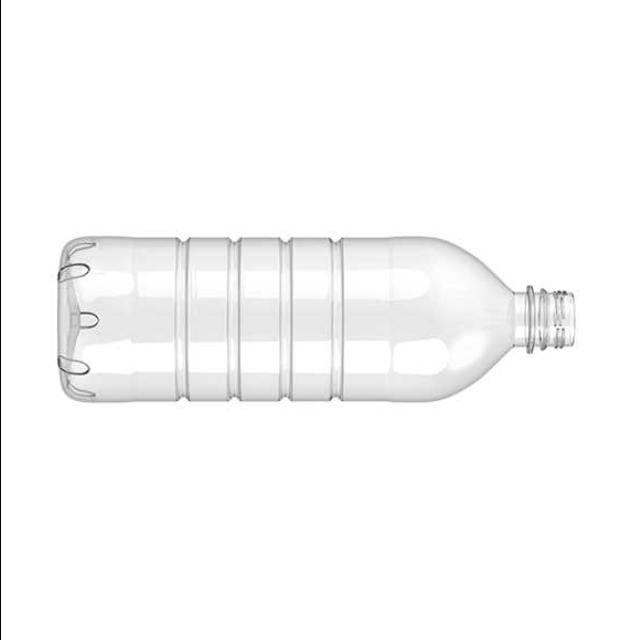bottle: (57, 238, 574, 402)
